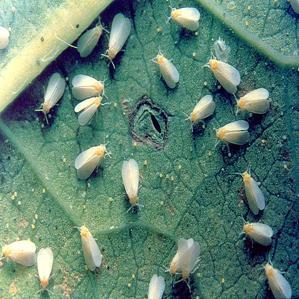Silverleaf whitefly: (60, 222, 126, 278), (164, 229, 210, 286), (64, 138, 110, 187), (231, 161, 271, 216), (2, 224, 40, 281), (30, 69, 70, 120), (114, 155, 148, 214), (147, 49, 188, 96), (234, 217, 284, 253), (105, 8, 134, 69), (255, 261, 298, 299), (208, 119, 259, 151), (207, 55, 244, 99), (232, 85, 279, 119), (72, 18, 104, 63), (164, 1, 204, 36), (70, 95, 110, 128), (32, 242, 57, 294), (69, 74, 119, 99), (186, 91, 218, 126), (140, 271, 170, 299)
